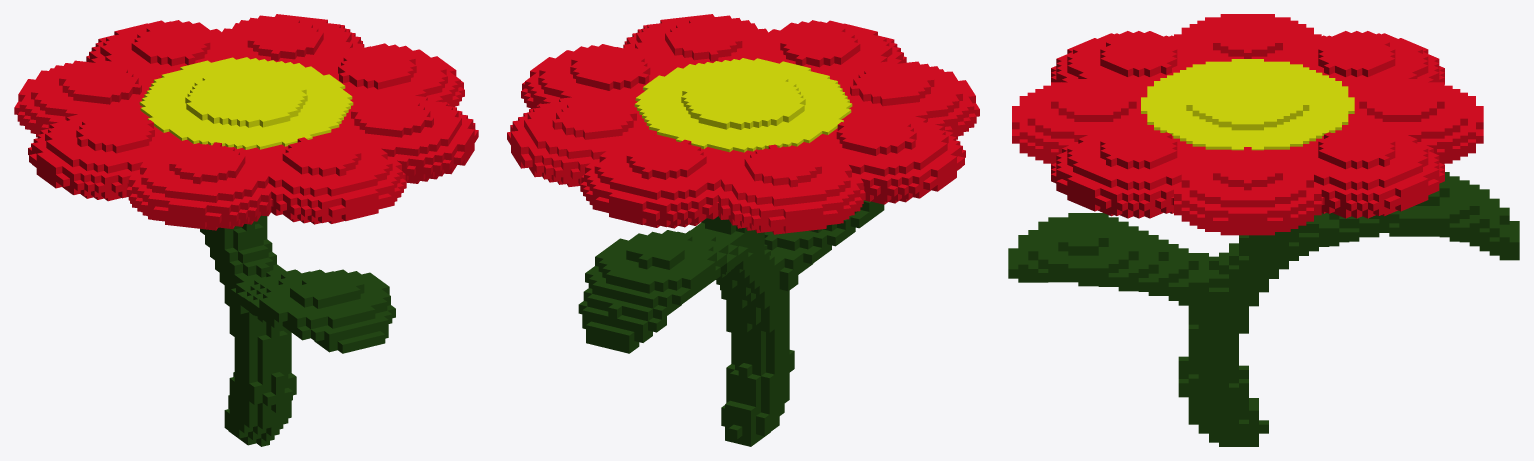
File: flower.fbx
3 renders of one model, left to right at view 1: azimuth 30°, elevation 25°; view 2: azimuth 150°, elevation 25°; view 3: azimuth 270°, elevation 25°, orthographic. The views are drawn at different scales.
Parts seen in each view (by area): view 1: Cube.022, Cube.023, Cube.032, Cube.030, Cube.031, Cube.028, Cube.029, Cube.026, Cube.025, Cube.027; view 2: Cube.022, Cube.023, Cube.029, Cube.025, Cube.031, Cube.027, Cube.032, Cube.026, Cube.028, Cube.030; view 3: Cube.022, Cube.023, Cube.026, Cube.028, Cube.027, Cube.025, Cube.030, Cube.029, Cube.032, Cube.031.
Part boxes in pixels (x1,y1,x2,y2): Cube.022: (200, 215, 395, 446); Cube.023: (139, 57, 353, 149); Cube.032: (126, 139, 274, 230); Cube.030: (255, 133, 406, 224); Cube.031: (28, 111, 185, 201); Cube.028: (330, 93, 478, 183); Cube.029: (14, 60, 161, 137); Cube.026: (314, 43, 464, 106); Cube.025: (86, 20, 240, 76); Cube.027: (222, 14, 364, 68); Cube.022: (578, 200, 884, 446); Cube.023: (634, 58, 852, 152); Cube.029: (715, 142, 865, 234); Cube.025: (580, 134, 728, 228); Cube.031: (810, 109, 965, 204); Cube.027: (507, 94, 656, 186); Cube.032: (830, 61, 979, 139); Cube.026: (521, 44, 674, 108); Cube.028: (623, 14, 772, 69); Cube.030: (762, 20, 906, 78); Cube.022: (1008, 172, 1519, 446); Cube.023: (1141, 59, 1354, 150); Cube.026: (1171, 147, 1324, 235); Cube.028: (1051, 123, 1209, 218); Cube.027: (1285, 125, 1444, 218); Cube.025: (1344, 79, 1483, 164); Cube.030: (1012, 79, 1147, 164); Cube.029: (1286, 31, 1444, 90); Cube.032: (1051, 31, 1204, 90); Cube.031: (1174, 14, 1321, 64).
Bounding box in the file's own units: 108 × 86.16 × 117.
